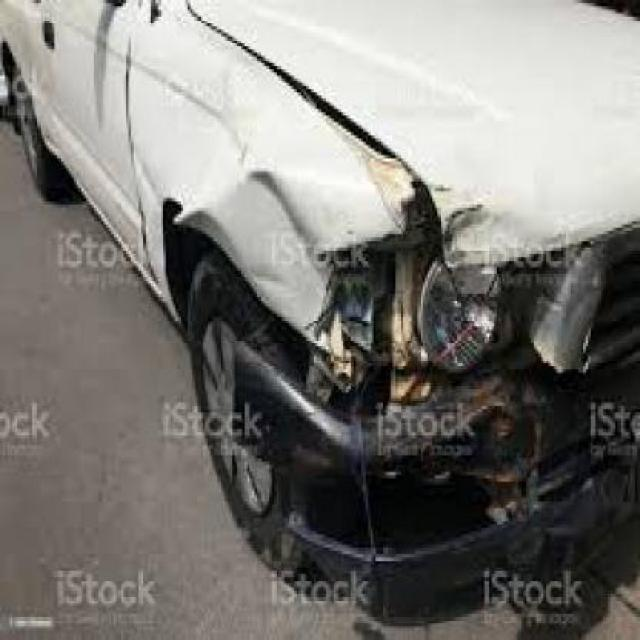damaged-front-bumper: (230, 352, 638, 594)
